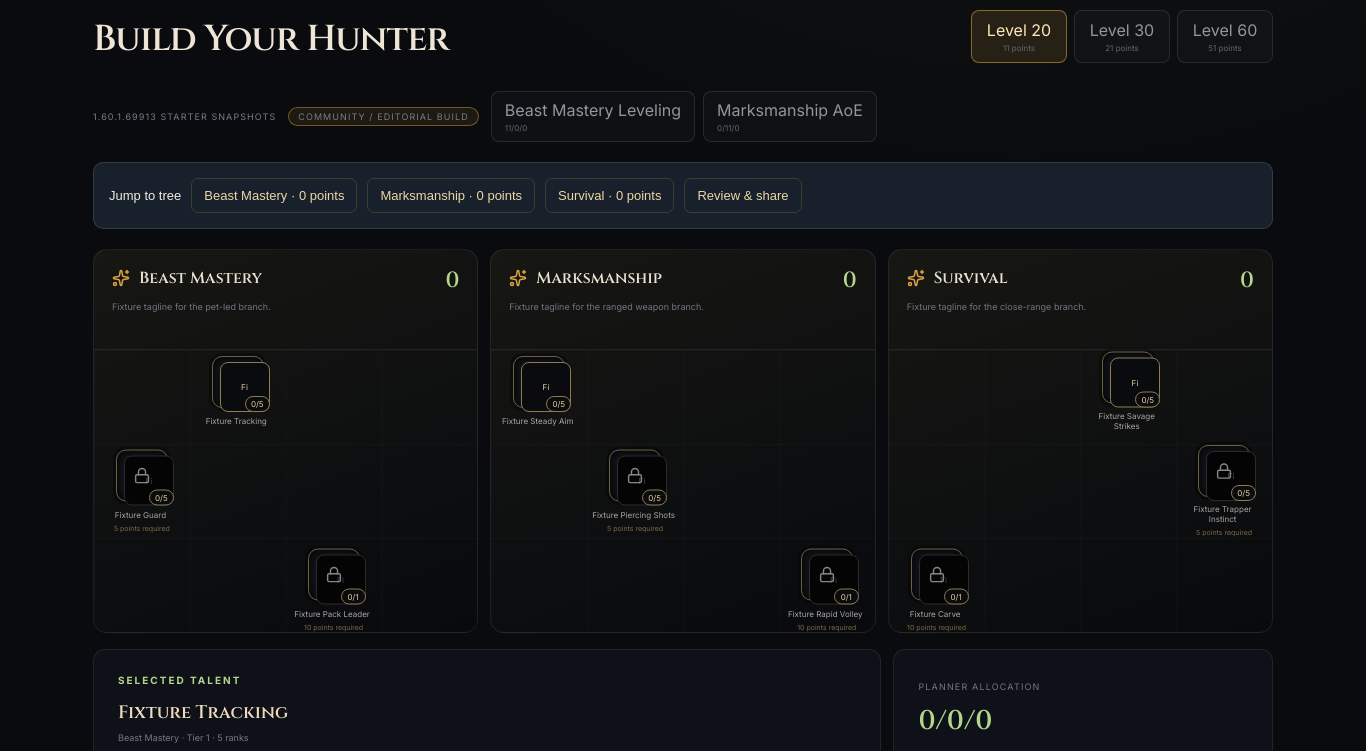
Test: ClassCalculatorPage renders any class from ClassDefinition › spends and refunds ranks on a class-neutral talent node
The image size is (1366, 751).
(page scrolled)
Click the button with aria-label "Add rank to Fixture Tracking" at (238, 382), box [212,356,264,408]
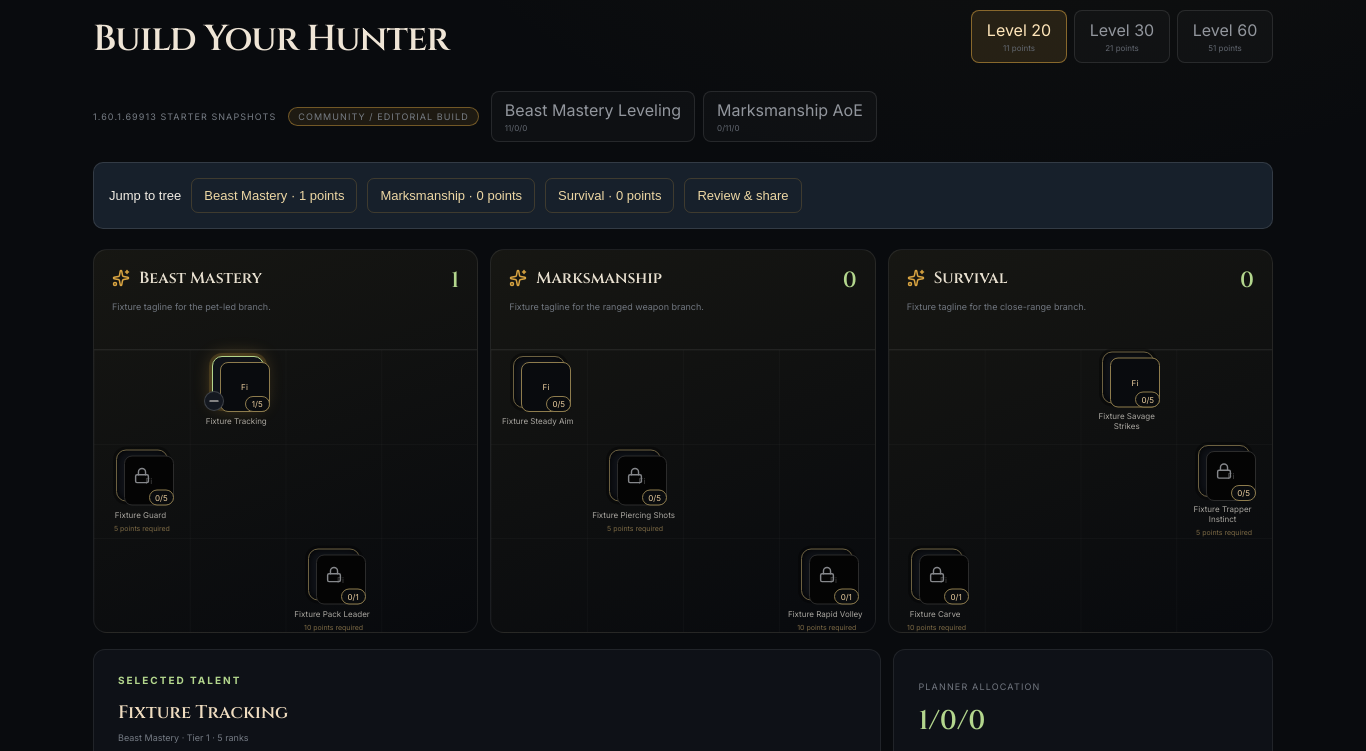
Now the element with id "bm-1" shows "1/5", box [196,356,280,428]
Click the button named "Remove rank from Fixture Tracking" at (214, 401), box [204,391,224,411]
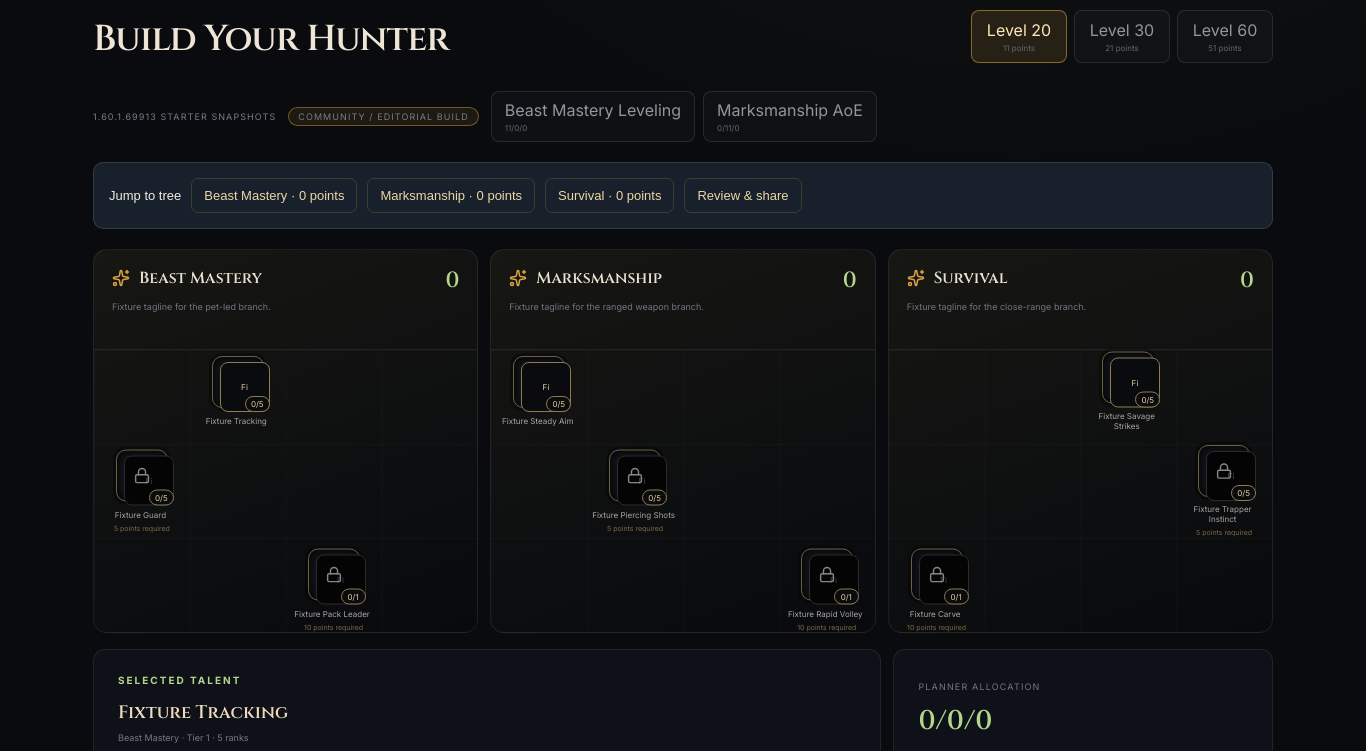
Now the element with id "bm-1" shows "0/5", box [196,356,280,428]
